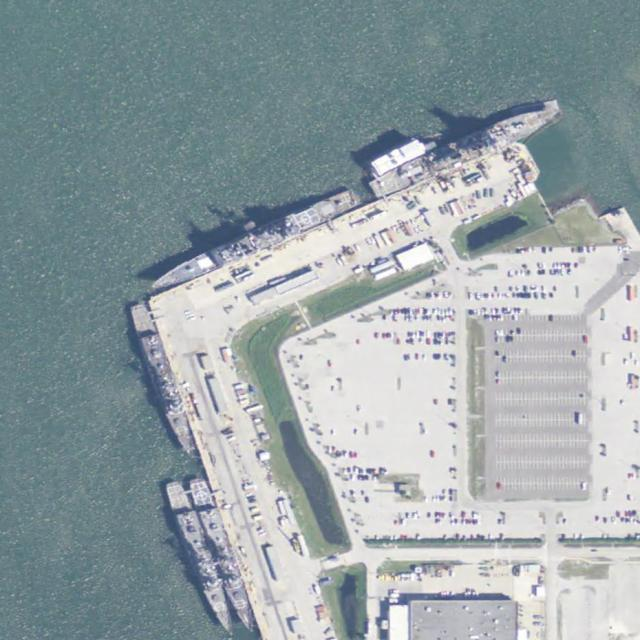Cruiser: (148, 186, 359, 297)
Destroyer: (367, 103, 556, 198)
Frigate: (188, 476, 261, 634), (165, 477, 235, 638), (129, 301, 196, 458)
